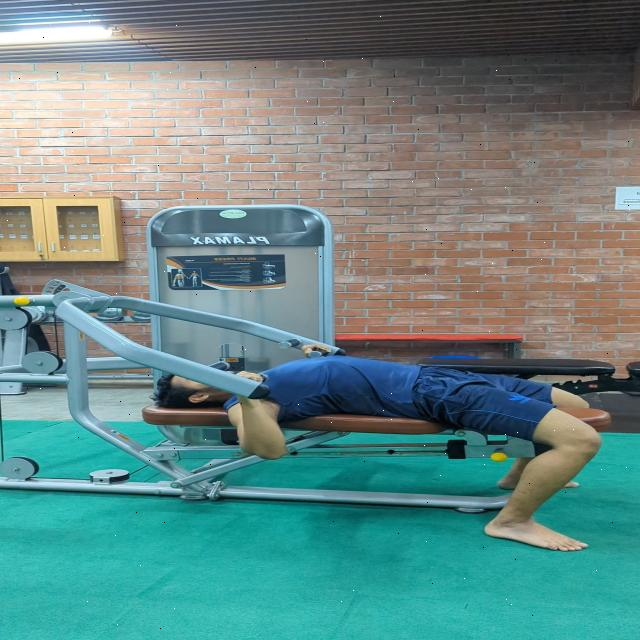Normal_BrenchPress: (101, 313, 618, 568)
